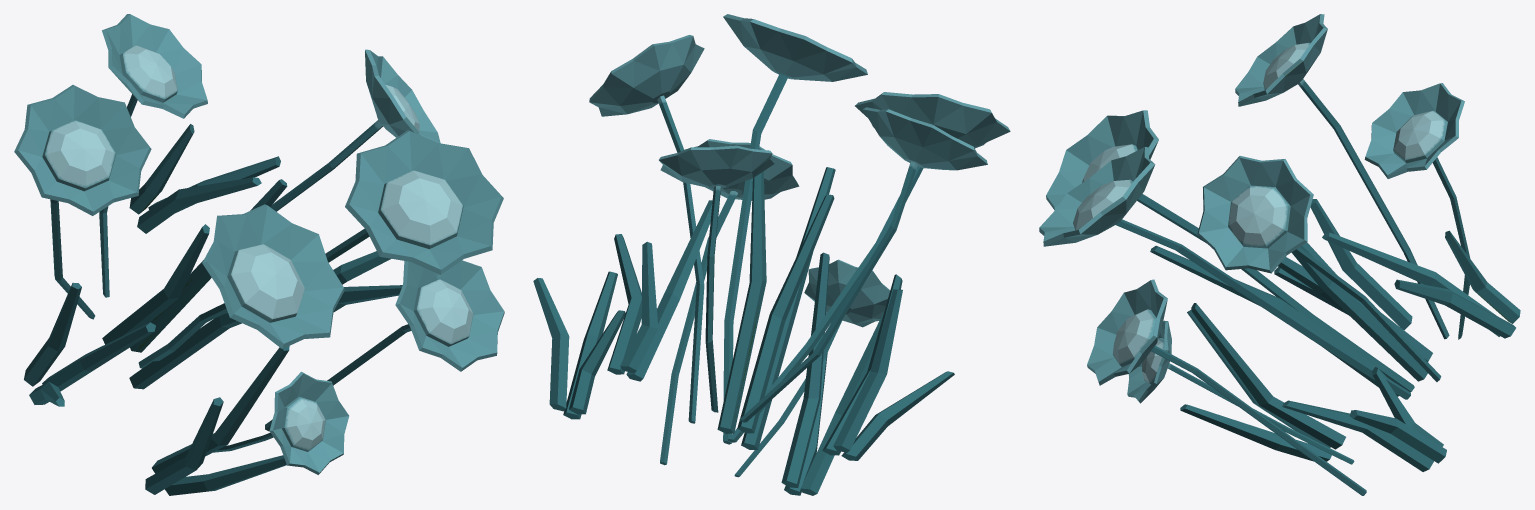
Rendered from flower5.glb.
The picture shows the model from 3 angles, left to right: view 1: azimuth 30°, elevation 25°; view 2: azimuth 150°, elevation 25°; view 3: azimuth 270°, elevation 25°; orthographic projection. The views are drawn at different scales.
Visible parts, largest first — view 1: node_id4; view 2: node_id4; view 3: node_id4.
Boxes of the visible parts, bbox=[...] form: node_id4: bbox=[14, 14, 504, 495]; node_id4: bbox=[533, 14, 1010, 495]; node_id4: bbox=[1039, 14, 1520, 495].
Bounding box in the file's own units: 0.4895 × 0.4682 × 0.5227.
Materials: 1 (1 with a texture image).
